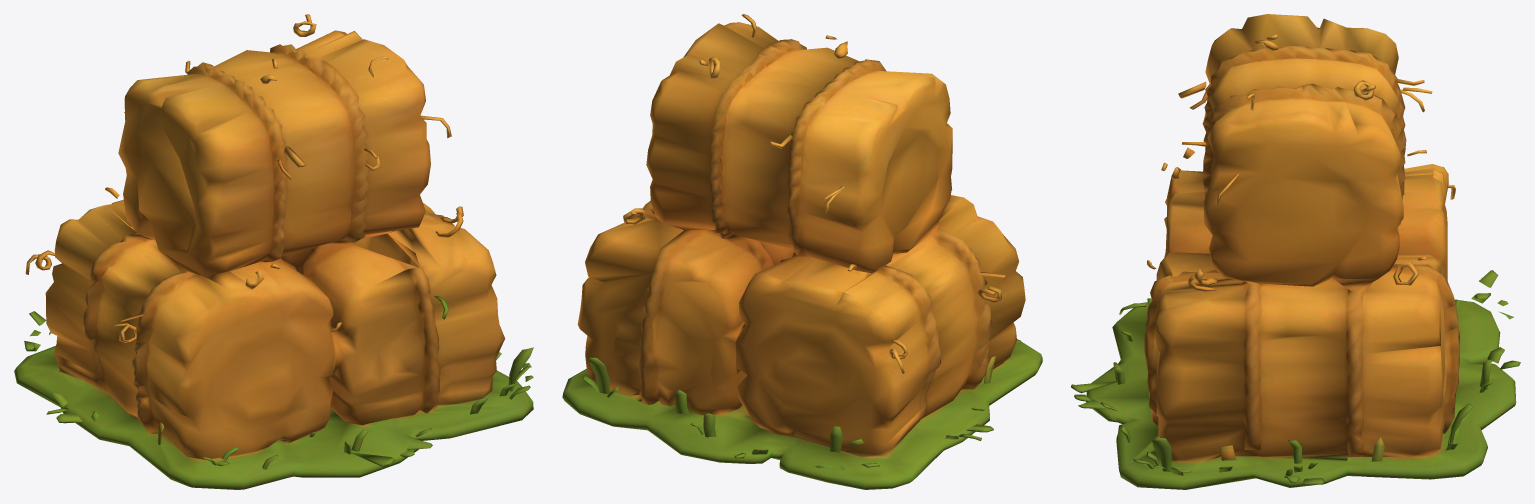
The model's file is hay_bale_stack.glb.
The picture shows the model from 3 angles, left to right: view 1: azimuth 30°, elevation 25°; view 2: azimuth 150°, elevation 25°; view 3: azimuth 270°, elevation 25°; orthographic projection. The views are drawn at different scales.
Visible parts, largest first — view 1: SkyRally_prop_forest_hay_bale_stack; view 2: SkyRally_prop_forest_hay_bale_stack; view 3: SkyRally_prop_forest_hay_bale_stack.
Part boxes in pixels (x1,y1,x2,y2): SkyRally_prop_forest_hay_bale_stack: [14, 14, 533, 489]; SkyRally_prop_forest_hay_bale_stack: [562, 14, 1042, 489]; SkyRally_prop_forest_hay_bale_stack: [1071, 14, 1520, 489].
Size of the model in its own units: 10 by 8.4 by 9.37.
1 material, 1 textured.
